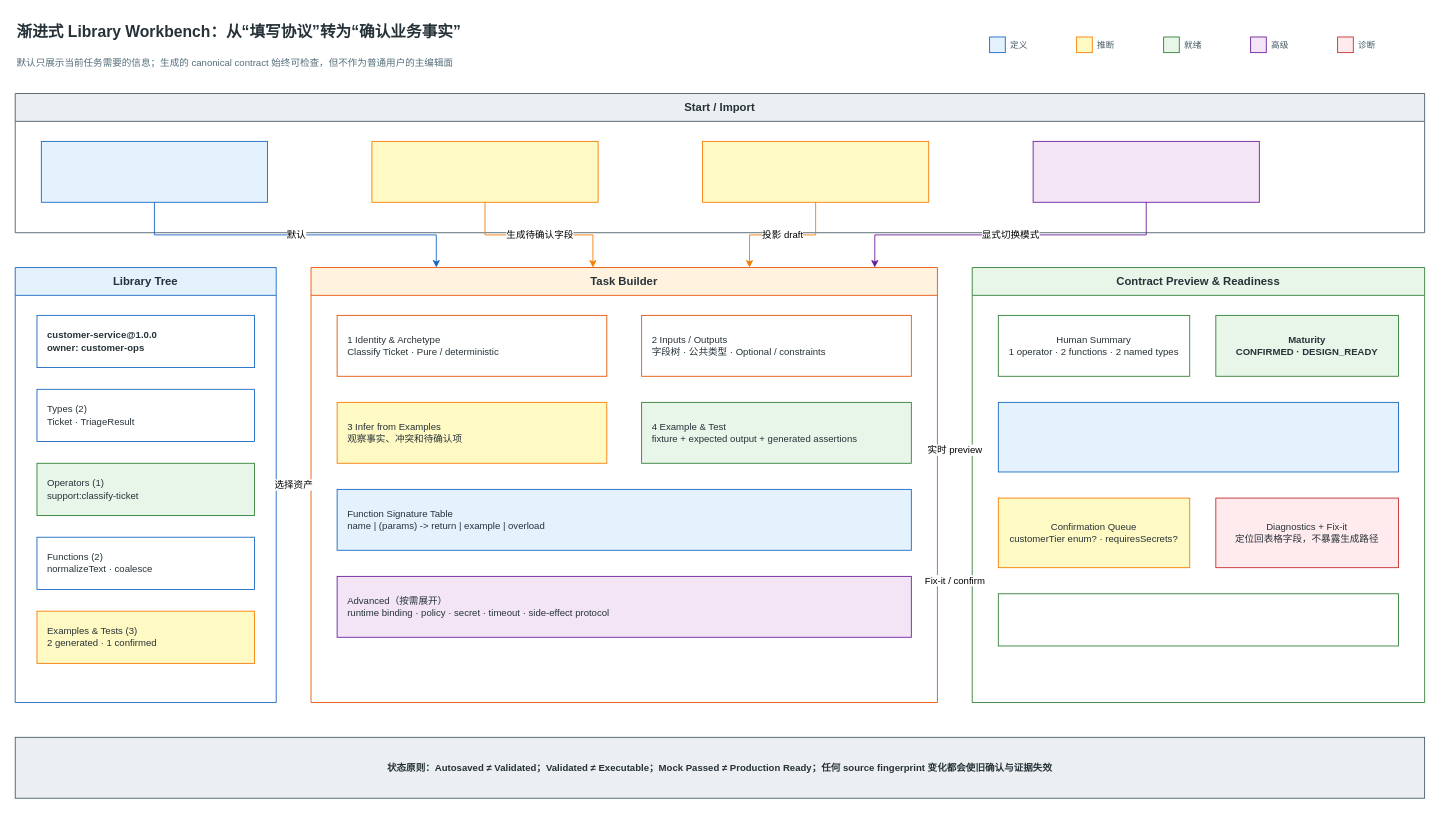
Some shapes in this 1440 by 813 pixel diagram are drawn without their labels. The shapes that lost their labels are listed below. From the top down, each one's centre as x and y in pixels, then its label:
the point at 154,171: Quick Create 从模板开始
the point at 484,171: Infer from Samples 粘贴 input / output JSON
the point at 815,171: Discover Existing Assets DSL / API / Capability Catalog
the point at 1145,171: Advanced Import 完整 JSON / YAML
the point at 1198,437: Generated Canonical Contract 只读树 / YAML / diff
the point at 1198,619: Preview · Validate · Import Design Catalog · Bind Runtime
